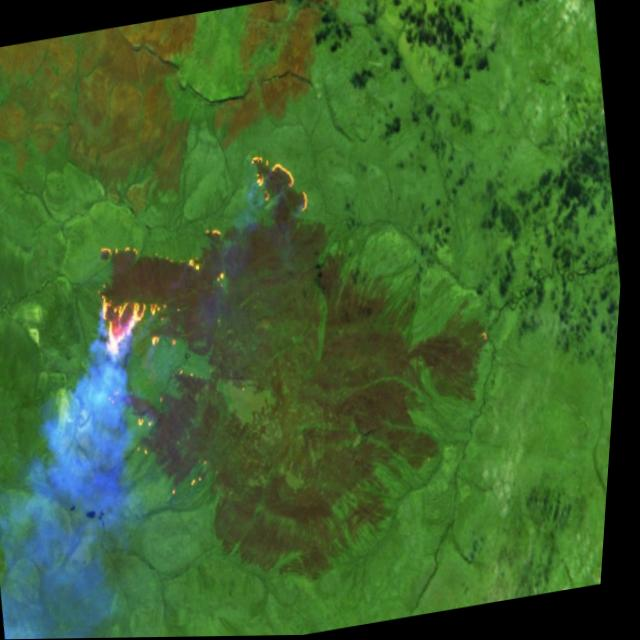fire: (70, 227, 243, 514)
